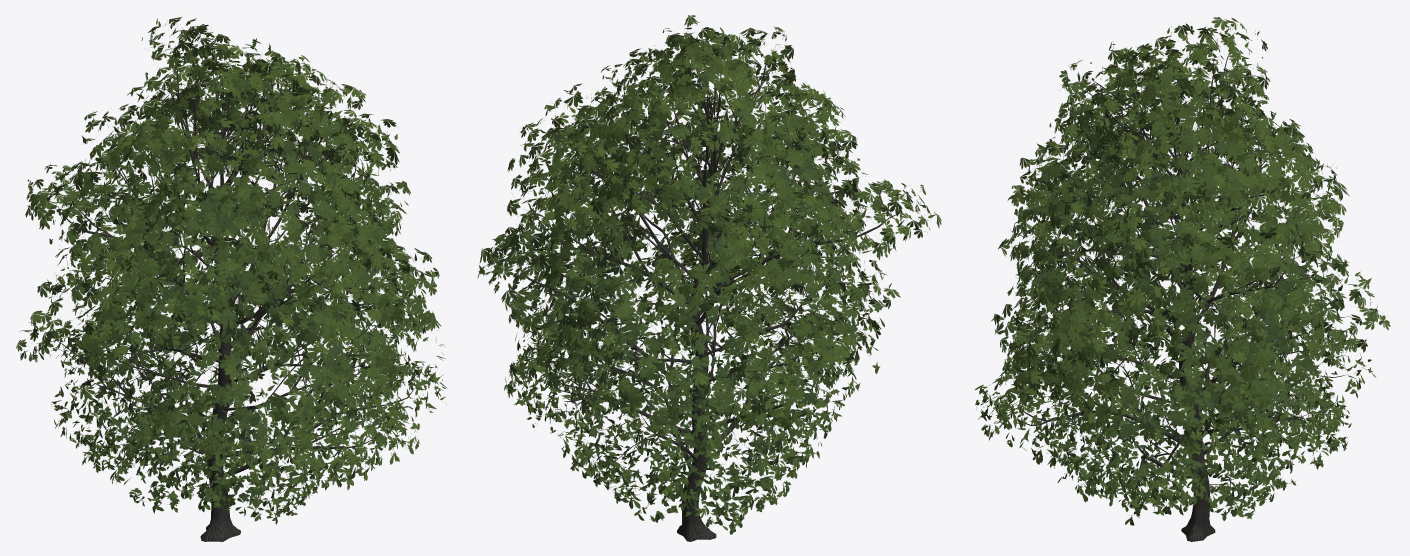
The model's file is tree_deciduous_lite.glb.
3 renders of one model, left to right at view 1: azimuth 30°, elevation 25°; view 2: azimuth 150°, elevation 25°; view 3: azimuth 270°, elevation 25°, orthographic. The views are drawn at different scales.
Parts seen in each view (by area): view 1: mx_tree_deciduous, mx_tree_deciduous.001; view 2: mx_tree_deciduous, mx_tree_deciduous.001; view 3: mx_tree_deciduous, mx_tree_deciduous.001.
Boxes of the visible parts, x1,y1,x2,y2 form: mx_tree_deciduous: (16, 17, 447, 524); mx_tree_deciduous.001: (43, 48, 415, 541); mx_tree_deciduous: (477, 15, 941, 534); mx_tree_deciduous.001: (511, 60, 900, 541); mx_tree_deciduous: (974, 17, 1390, 525); mx_tree_deciduous.001: (1020, 55, 1350, 541).
Size of the model in its own units: 26.65 by 32.6 by 24.94.
Materials: 2 (2 with a texture image).
